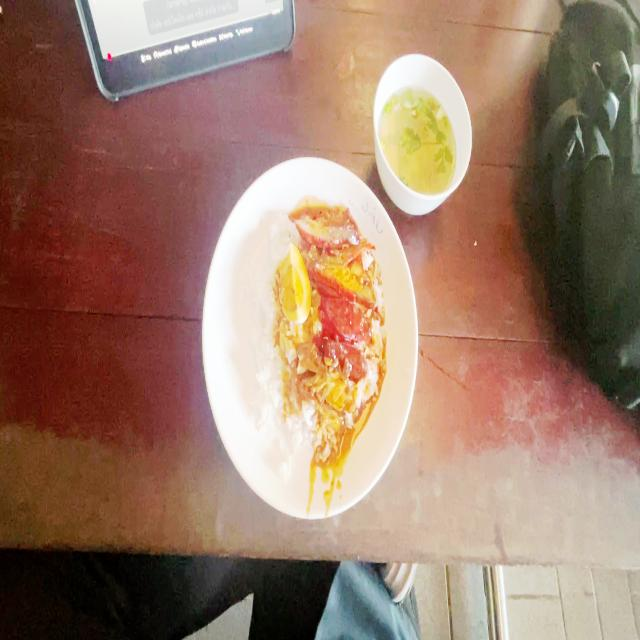red_pork_and_crispy_pork: (256, 213, 381, 466)
